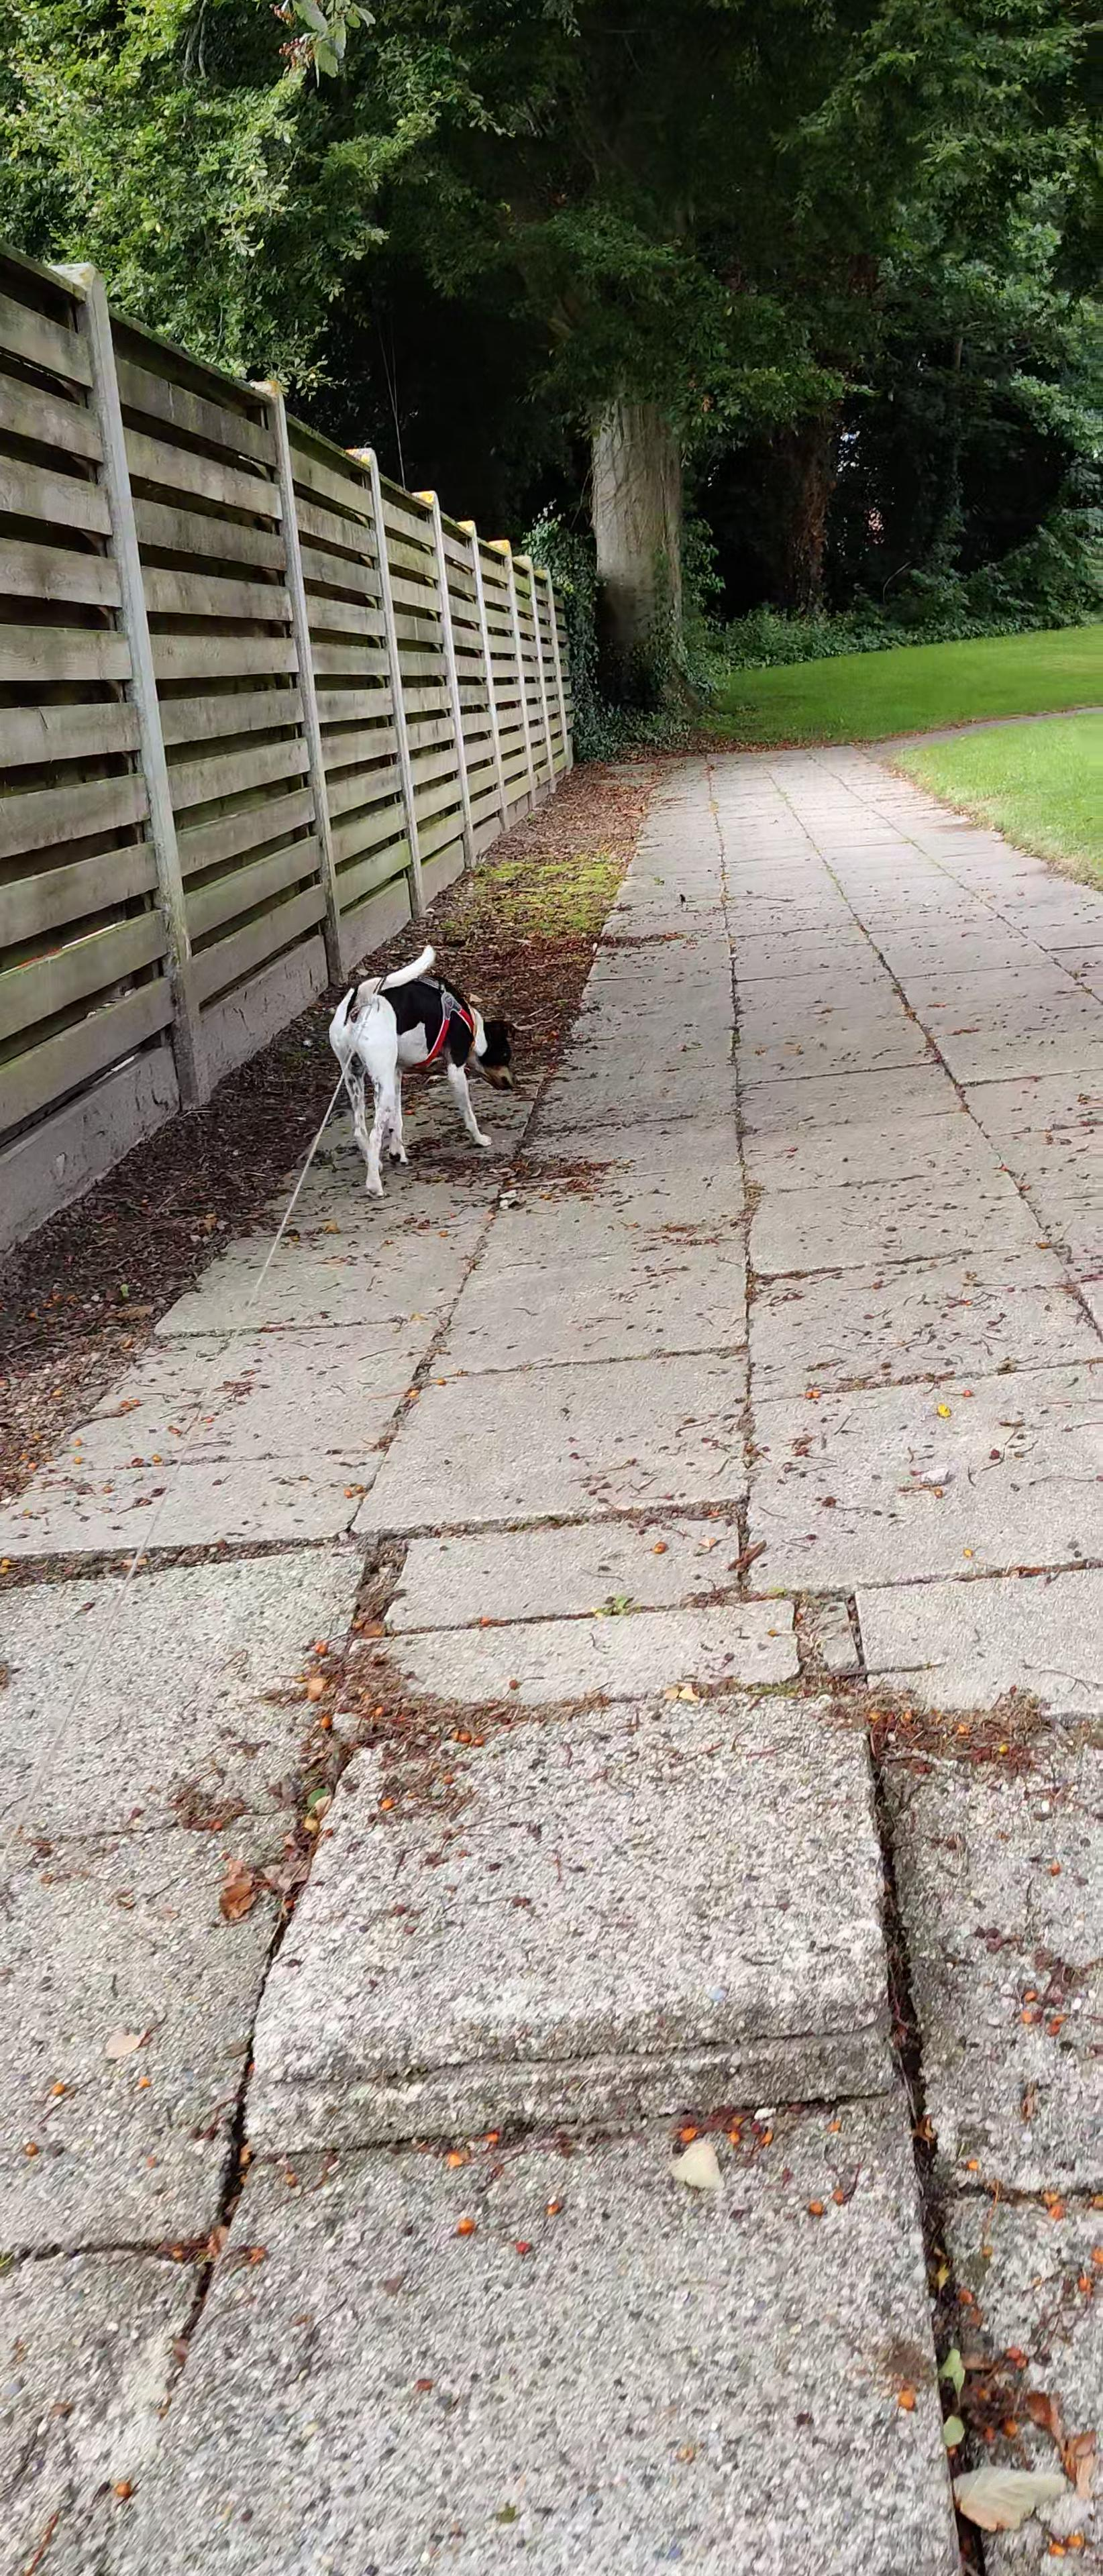Dog: (325, 936, 519, 1194)
